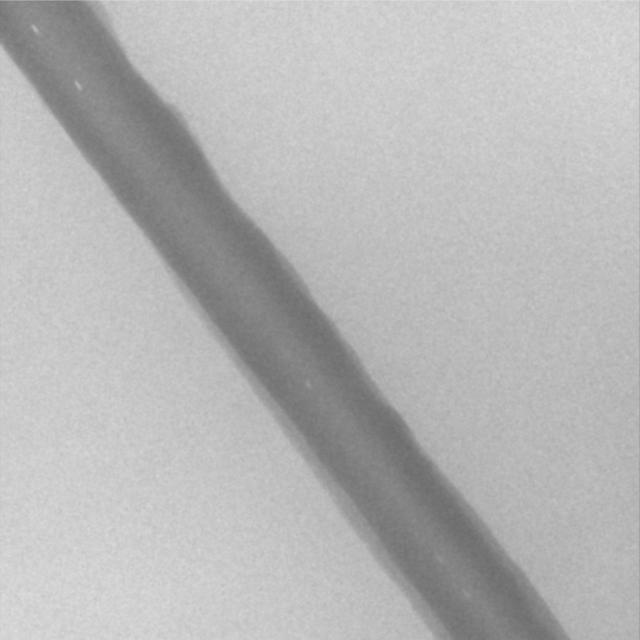air hole: (73, 79, 82, 92), (29, 23, 38, 35)
